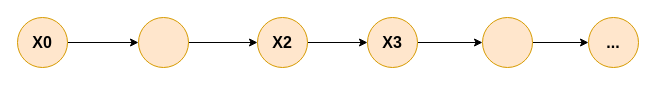
This 656x85 diagram has some shape labels left out. The shapes that lost their labels are listed below. From the top down, each one's centre as x and y in pixels, then its label:
(x=163, y=42): X1
(x=507, y=42): X4
